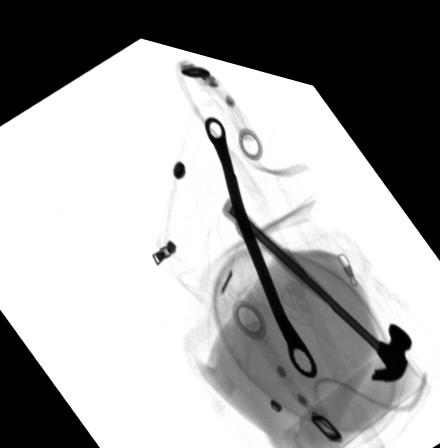Hammer: (222, 186, 411, 361)
Wrench: (205, 105, 318, 361)
